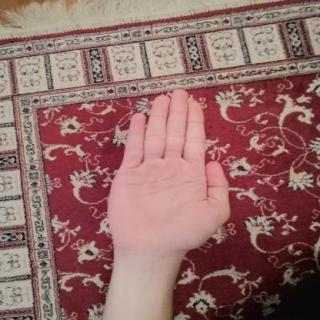SEEN: (95, 80, 240, 259)
